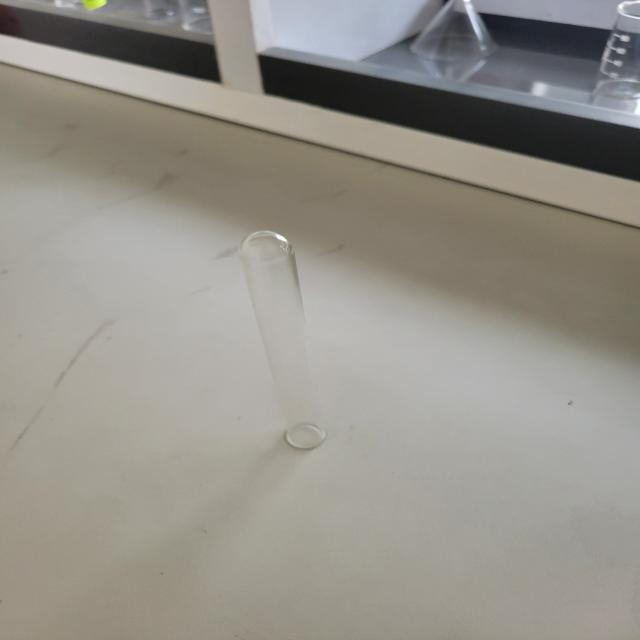Test_Tube: (189, 177, 382, 475)
